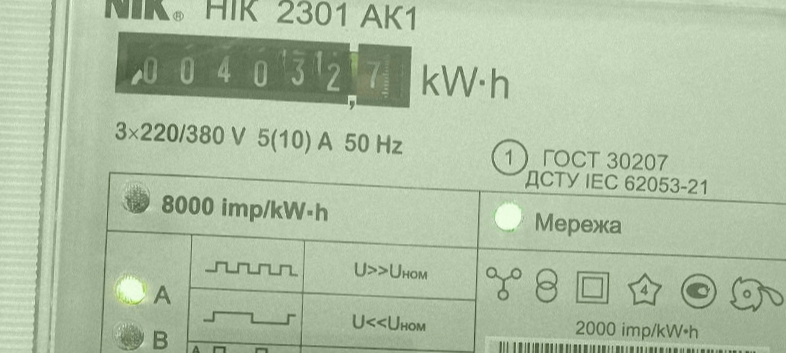0: (177, 53, 198, 86), (141, 51, 161, 85), (251, 55, 271, 89)
2: (325, 58, 344, 93)
3: (289, 54, 308, 87)
4: (214, 51, 235, 87)
7: (366, 57, 384, 90)
screen: (105, 22, 422, 120)
